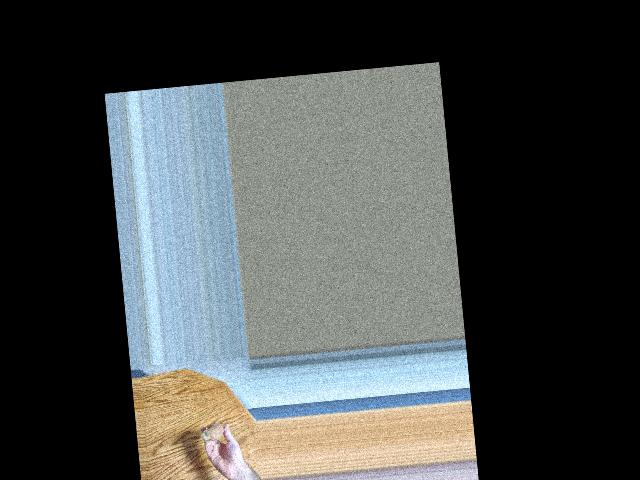sweet_potato: (200, 414, 227, 441)
